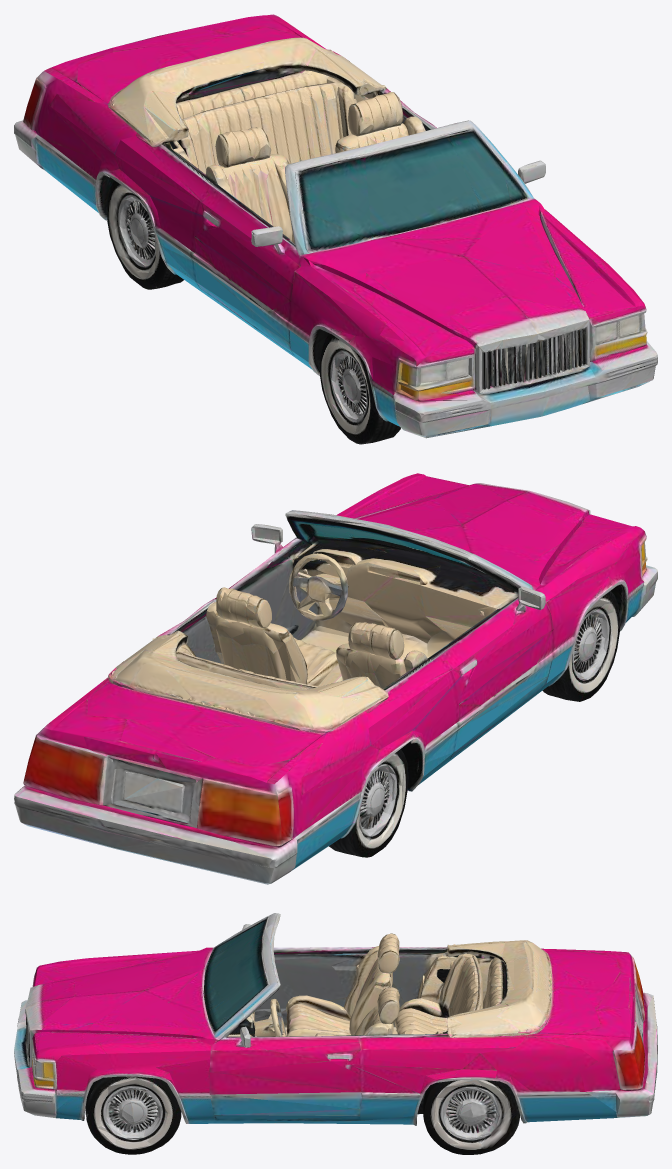
Rendered from car_cabrio.glb.
3 renders of one model, top to bottom at view 1: azimuth 30°, elevation 25°; view 2: azimuth 150°, elevation 25°; view 3: azimuth 270°, elevation 25°, orthographic. The views are drawn at different scales.
Size of the model in its own units: 1.87 by 1.27 by 4.5.
Materials: 1 (1 with a texture image).
